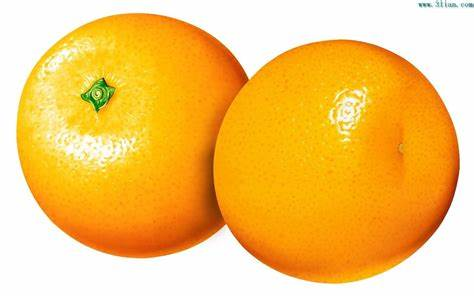orange: (215, 41, 462, 283), (17, 13, 247, 260)
